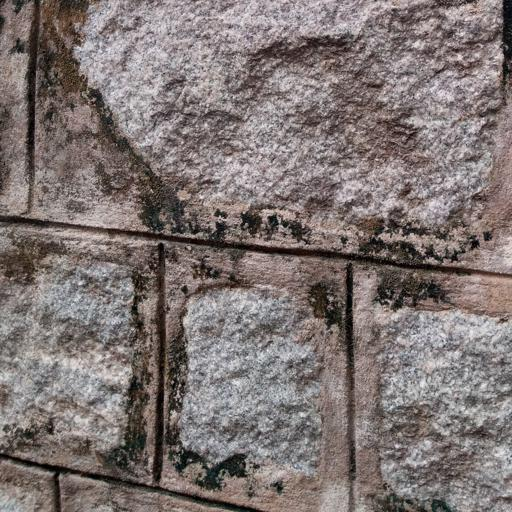algae: (23, 2, 269, 491)
